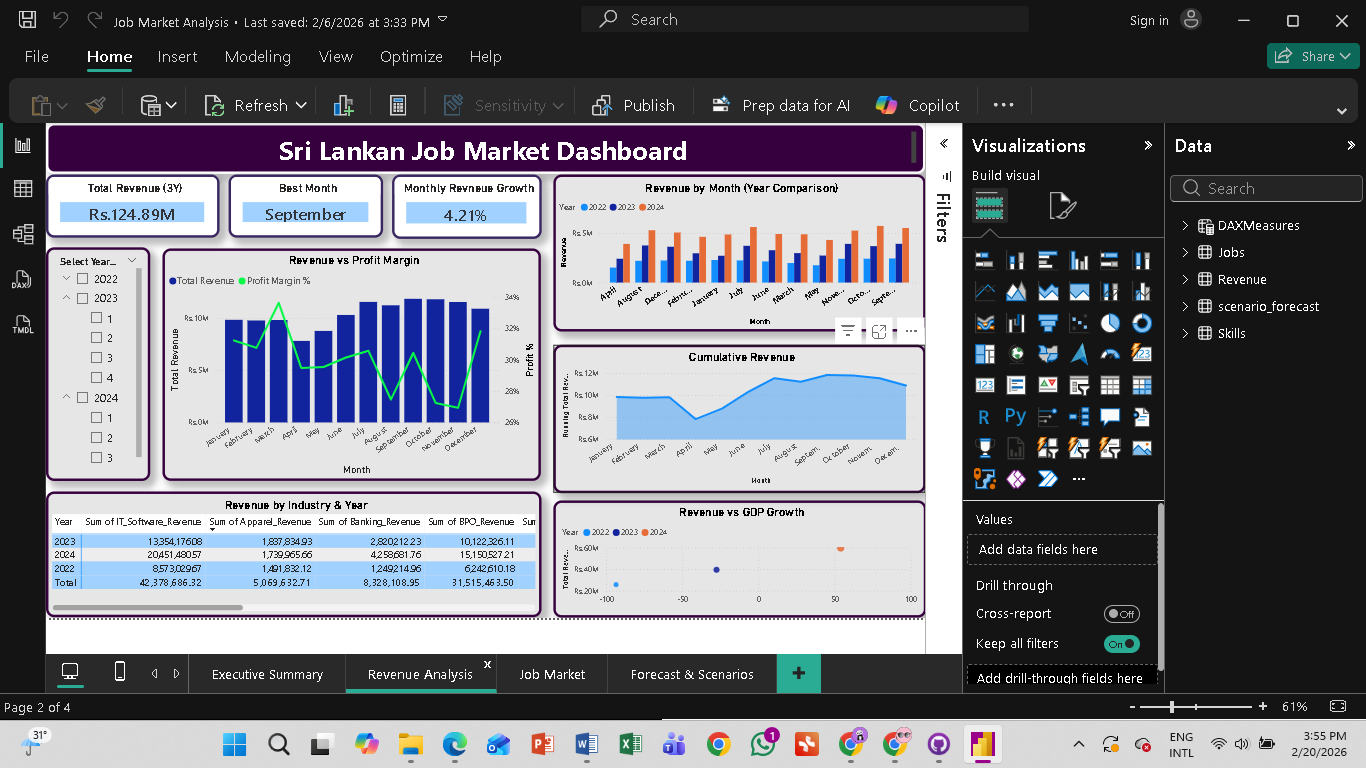

What the dashboard file says about the page in this screenshot:
{"tool":"powerbi","page":{"name":"Revenue Analysis","canvas":[1280,720],"ordinal":1},"visuals":[{"type":"textbox","box":[0,0,1280.7,74.5],"z":0},{"type":"clusteredColumnChart","title":"Revenue by Month (Year Comparison)","fields":{"Category":["Revenue.Month_Name"],"Y":["DAXMeasures.Total Revenue"],"Series":["Revenue.Year"]},"box":[738,75.1,542,228.9],"z":1000},{"type":"pivotTable","title":"Revenue by Industry & Year","fields":{"Rows":["Revenue.Year"],"Values":["Sum(Revenue.IT_Software_Revenue)","Sum(Revenue.Apparel_Revenue)","Sum(Revenue.Banking_Revenue)","Sum(Revenue.BPO_Revenue)","Sum(Revenue.Ecommerce_Revenue)","Sum(Revenue.Finance_Revenue)","Sum(Revenue.Healthcare_Revenue)","Sum(Revenue.Manufacturing_Revenue)","Sum(Revenue.Telecom_Revenue)","Sum(Revenue.Tourism_Revenue)"]},"box":[0,536.5,721.5,183.1],"z":2000},{"type":"lineStackedColumnComboChart","title":"Revenue vs Profit Margin","fields":{"Y2":["DAXMeasures.Profit Margin %"],"Y":["DAXMeasures.Total Revenue"],"Category":["Revenue.Date.Variation.Date Hierarchy.Month"]},"box":[170.3,183.1,551.2,338.8],"z":3000},{"type":"scatterChart","title":"Revenue vs GDP Growth","fields":{"X":["Sum(Revenue.GDP_Growth_Rate)"],"Y":["DAXMeasures.Total Revenue"],"Size":["Sum(Revenue.Total_Placements)"],"Series":["Revenue.Year"]},"box":[737.9,549.9,542.8,170.3],"z":4000},{"type":"areaChart","title":"Cumulative Revenue","fields":{"Category":["Revenue.Date.Variation.Date Hierarchy.Month"],"Y":["DAXMeasures.Running Total Revenue"]},"box":[738,322.3,542,216.1],"z":5000},{"type":"slicer","fields":{"Values":["Revenue.Year","Revenue.Quarter"]},"box":[0,181.3,152,340.6],"z":5001},{"type":"cardVisual","title":"Total Revenue (3Y)","fields":{"Data":["DAXMeasures.Total Revenue"]},"box":[0,75.1,252.7,91.6],"z":5002},{"type":"cardVisual","title":"Best Month","fields":{"Data":["DAXMeasures.Best Month"]},"box":[265.5,75.1,225.2,91.6],"z":5003},{"type":"cardVisual","title":"Monthly Revneue Growth","fields":{"Data":["DAXMeasures.Revenue MoM Growth %"]},"box":[503.6,75.1,217.9,93.4],"z":5004}]}

Visuals, with their boxes on the page's 1280x720 design canvas (x1, y1, x2, y2). These are canvas units, not pixel positions in the 1366x768 screenshot, which may show the page scaled, cropped or inside an application window:
textbox: 0/0/1281/74
"Revenue by Month (Year Comparison)" clusteredColumnChart: 738/75/1280/304
"Revenue by Industry & Year" pivotTable: 0/536/722/720
"Revenue vs Profit Margin" lineStackedColumnComboChart: 170/183/722/522
"Revenue vs GDP Growth" scatterChart: 738/550/1281/720
"Cumulative Revenue" areaChart: 738/322/1280/538
slicer - Revenue.Year x Revenue.Quarter: 0/181/152/522
"Total Revenue (3Y)" cardVisual: 0/75/253/167
"Best Month" cardVisual: 266/75/491/167
"Monthly Revneue Growth" cardVisual: 504/75/722/168
